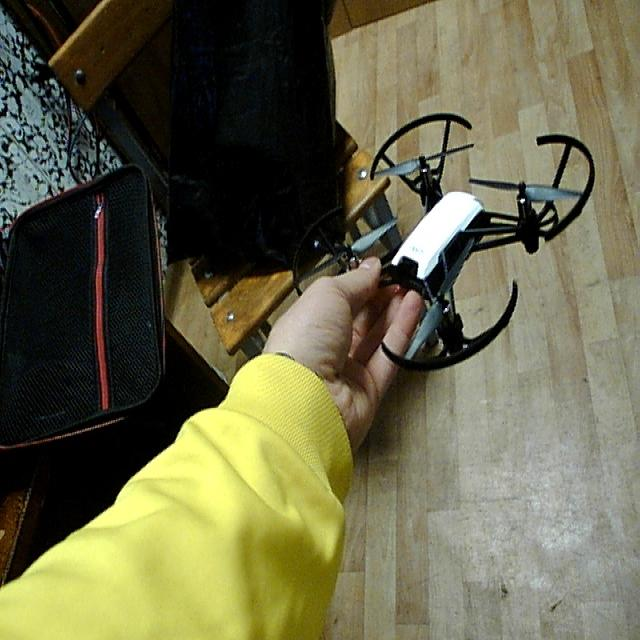drone: (291, 106, 603, 386)
